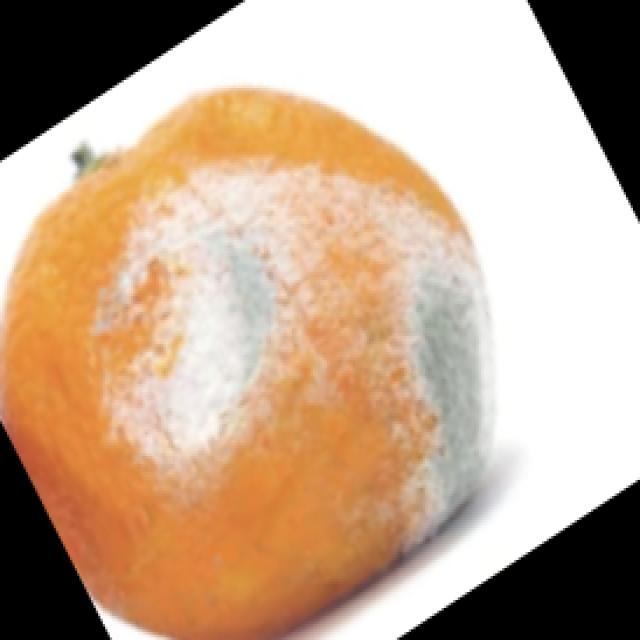sangat-busuk: (0, 89, 488, 639), (145, 168, 479, 507)
